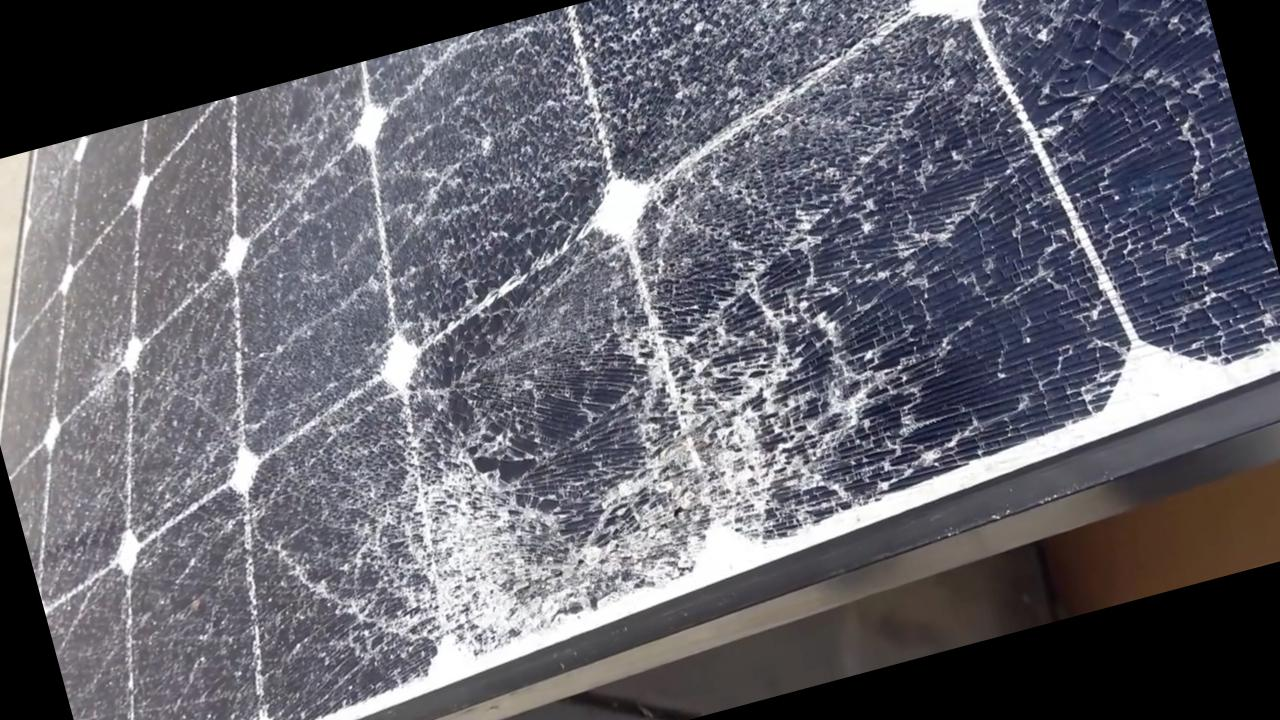Crack: (242, 266, 958, 678)
